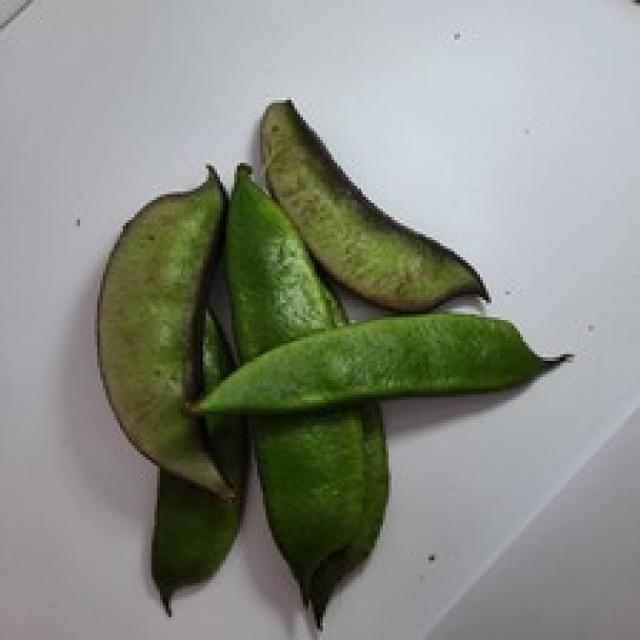Bean: (94, 94, 572, 629), (257, 97, 489, 312), (183, 309, 571, 417)
